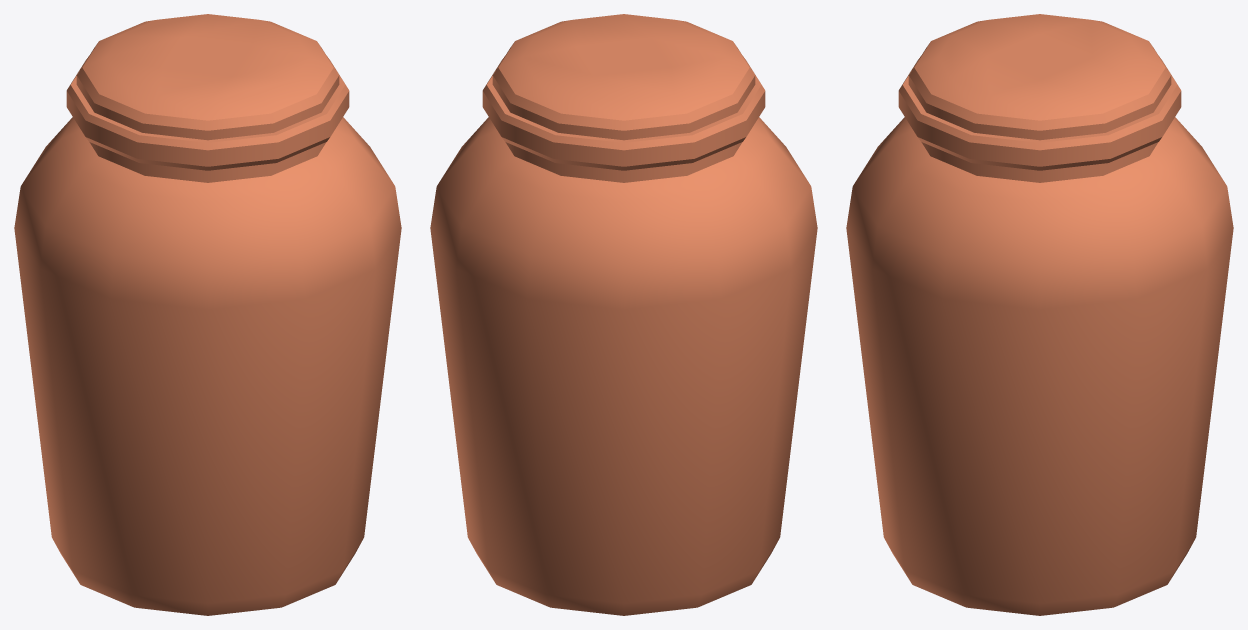
File: pottery jar UV.fbx
The picture shows the model from 3 angles, left to right: view 1: azimuth 30°, elevation 25°; view 2: azimuth 150°, elevation 25°; view 3: azimuth 270°, elevation 25°; orthographic projection.
Parts seen in each view (by area): view 1: pottery storage jar, pottery storage jar. lid; view 2: pottery storage jar, pottery storage jar. lid; view 3: pottery storage jar, pottery storage jar. lid.
Part boxes in pixels (<box>): pottery storage jar: <box>14,56,401,615</box>; pottery storage jar. lid: <box>76,14,339,140</box>; pottery storage jar: <box>430,56,817,615</box>; pottery storage jar. lid: <box>492,14,755,140</box>; pottery storage jar: <box>846,56,1233,615</box>; pottery storage jar. lid: <box>908,14,1171,140</box>.
Bounding box in the file's own units: 69.34 × 98.11 × 69.34.
